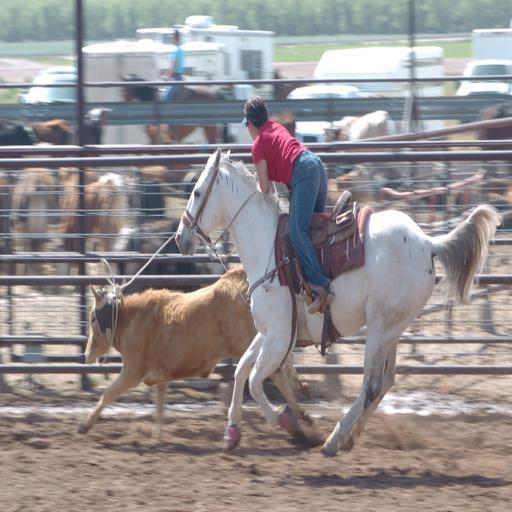horse: (176, 147, 500, 455)
